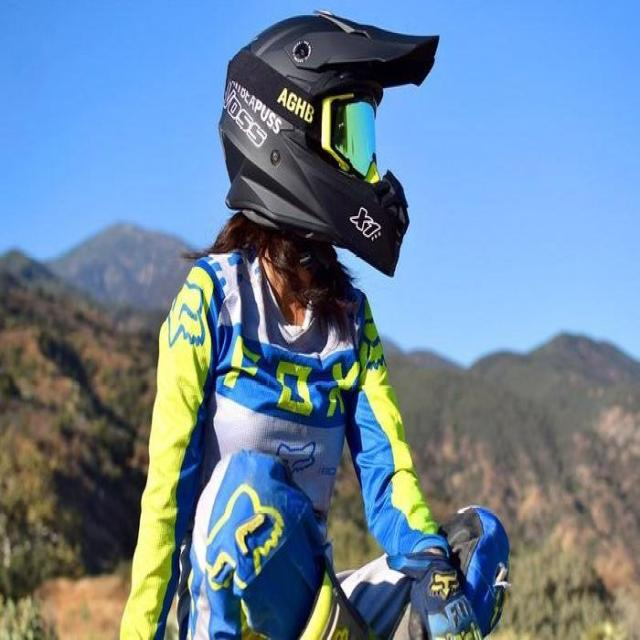Helm: (208, 0, 442, 283)
